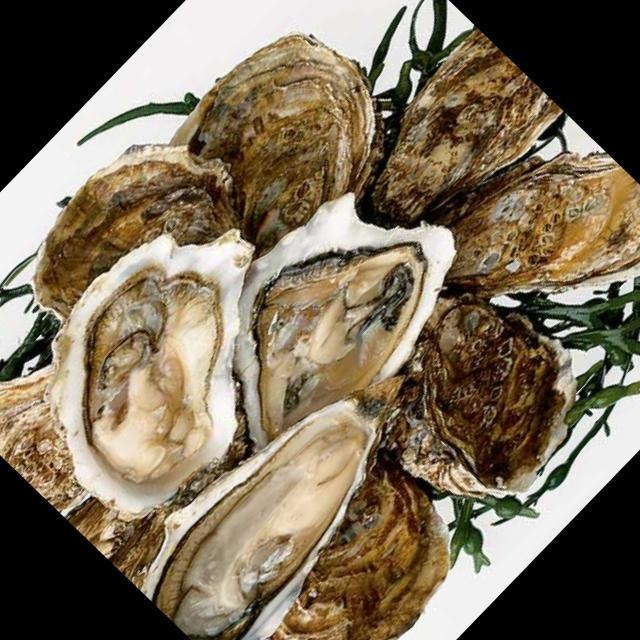Oyster- Indeterminate: (161, 8, 416, 258), (324, 26, 569, 275), (0, 116, 255, 331), (263, 457, 483, 640), (0, 356, 83, 512), (63, 490, 159, 589)
Oyster-Closed: (365, 283, 603, 532)
Oyster-Open: (201, 172, 465, 489), (116, 357, 408, 640), (47, 218, 254, 513)
